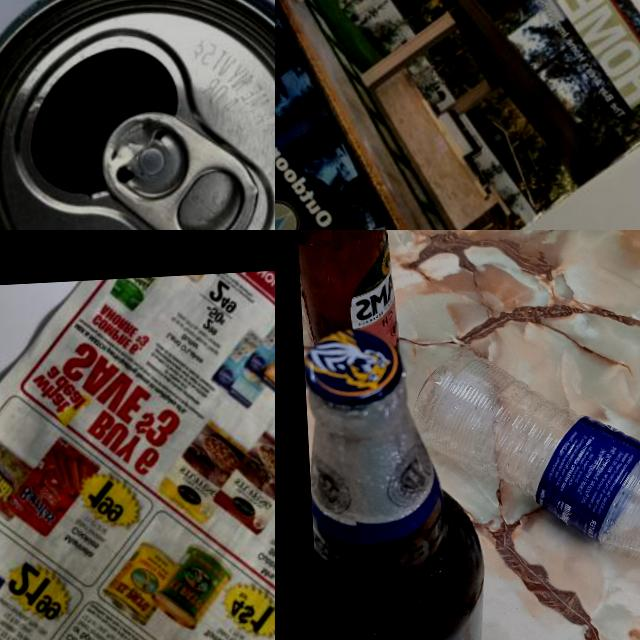aba de lata: (96, 104, 267, 230)
garrafa de vidro: (303, 324, 495, 640), (292, 230, 399, 350)
garrafa plástica: (412, 335, 640, 574)
lata: (0, 0, 275, 230)
papel: (0, 260, 275, 640), (275, 0, 640, 230)
